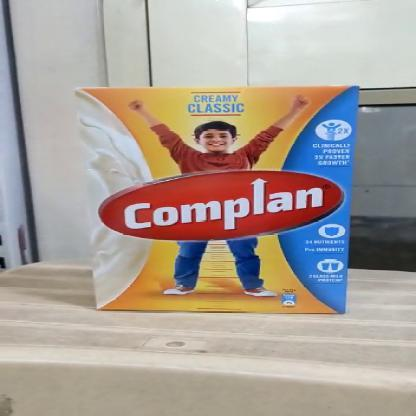Complan Classic Creme: (91, 87, 350, 312)
